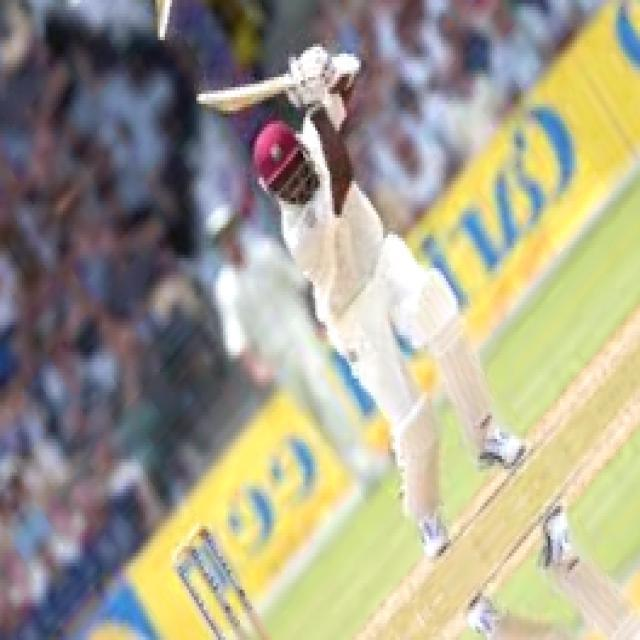bat: (192, 74, 298, 117)
